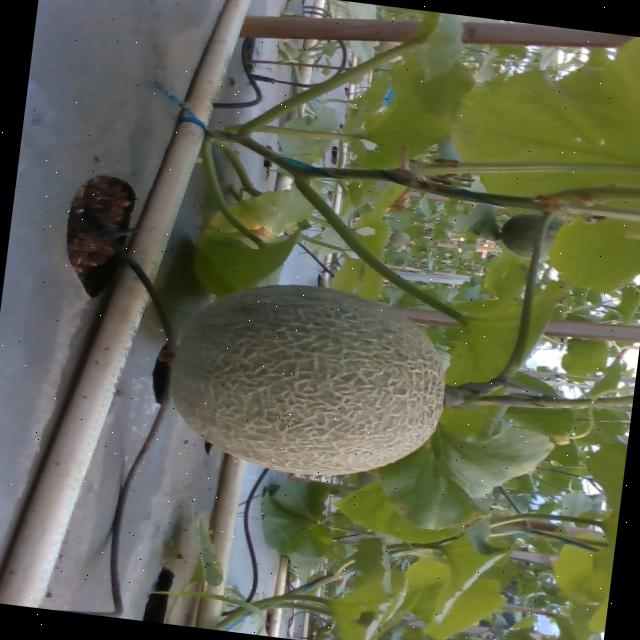melon: (168, 286, 442, 476)
